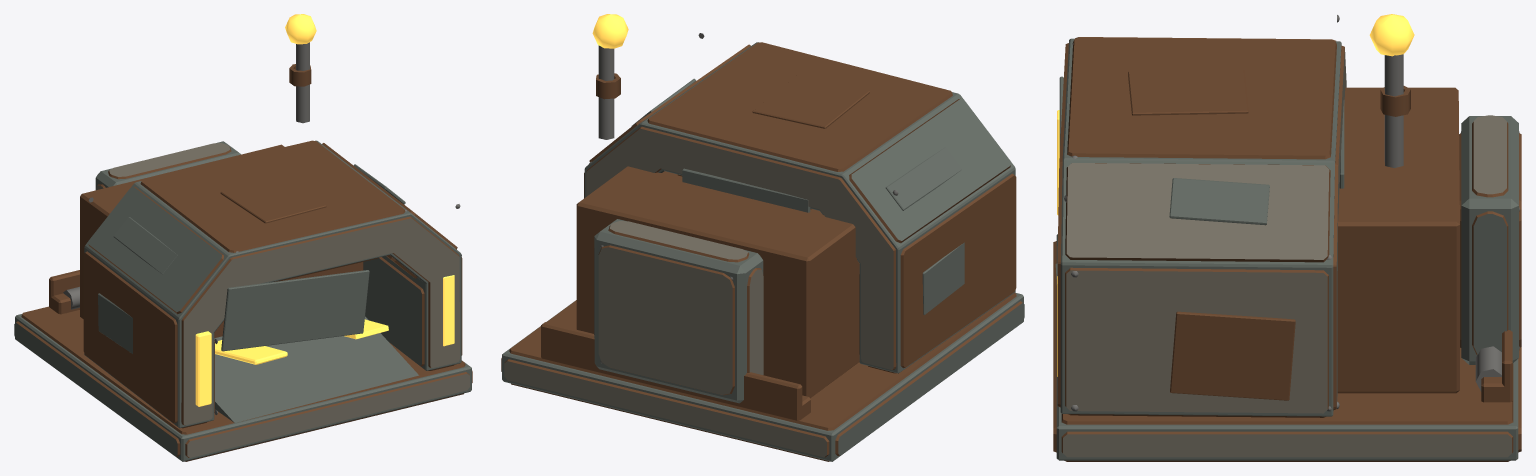
File: R4X_GroundDroneDeployer.fbx
The picture shows the model from 3 angles, left to right: view 1: azimuth 30°, elevation 25°; view 2: azimuth 150°, elevation 25°; view 3: azimuth 270°, elevation 25°; orthographic projection. The views are drawn at different scales.
Parts seen in each view (by area): view 1: R4X_GroundDroneDeployer_Body; view 2: R4X_GroundDroneDeployer_Body; view 3: R4X_GroundDroneDeployer_Body.
Boxes of the visible parts, x1,y1,x2,y2 form: R4X_GroundDroneDeployer_Body: (14, 14, 472, 461); R4X_GroundDroneDeployer_Body: (501, 14, 1024, 461); R4X_GroundDroneDeployer_Body: (1053, 14, 1521, 461).
Size of the model in its own units: 0.52 by 0.51 by 0.52.
